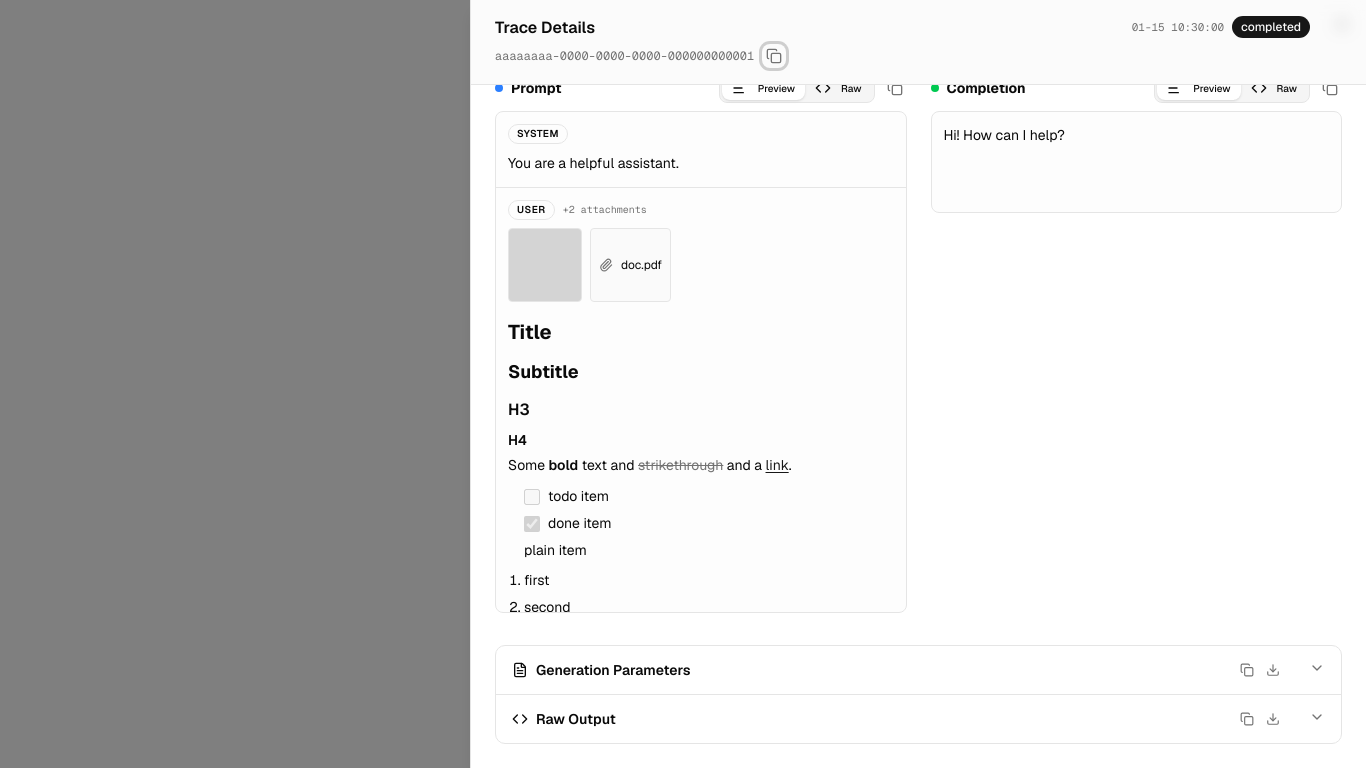
LogDetails – with data › accordion: Raw Output panel opens and shows ReactJson content
The width and height of the screenshot is (1366, 768).
(page scrolled)
Click the button "Raw Output" at (576, 719), box [512,695,1325,743]
(page scrolled)
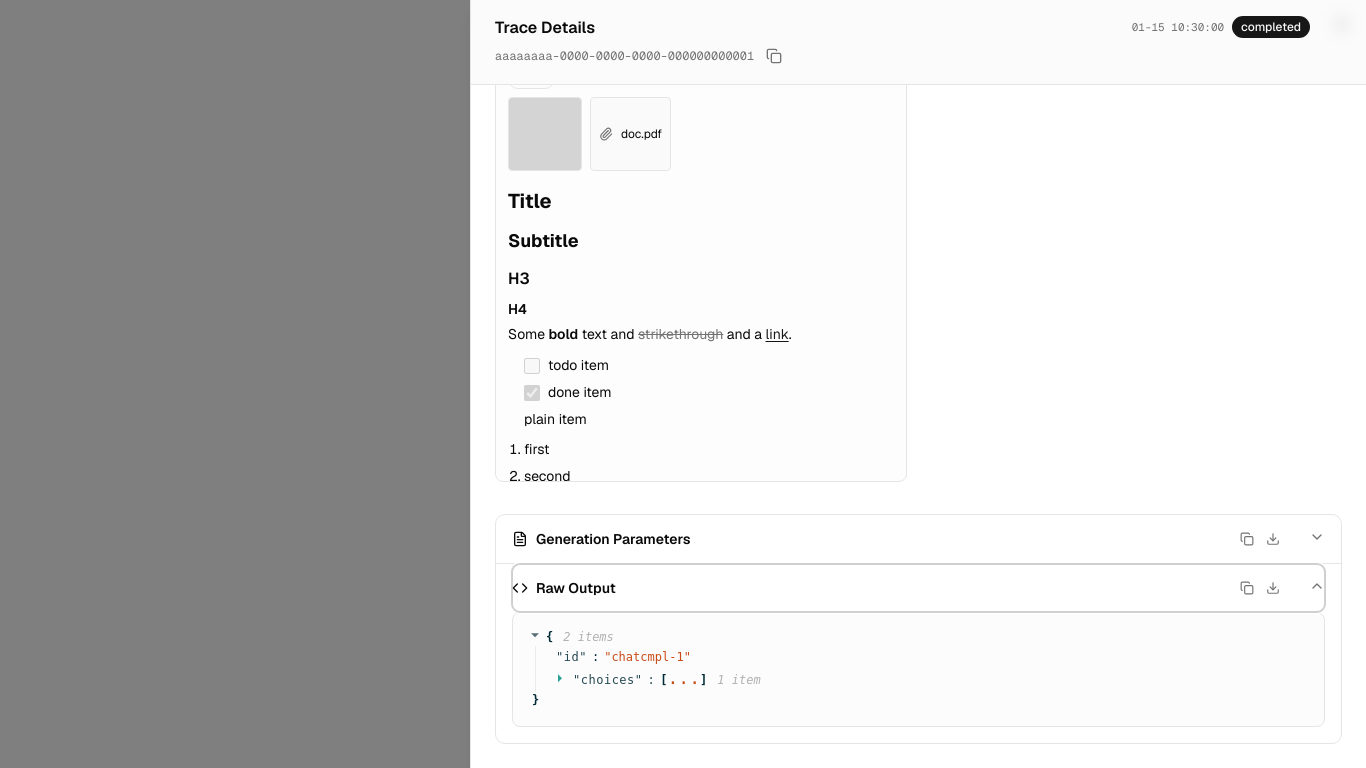
Check: the text "choices" is shown, box [581,673,635,687]
